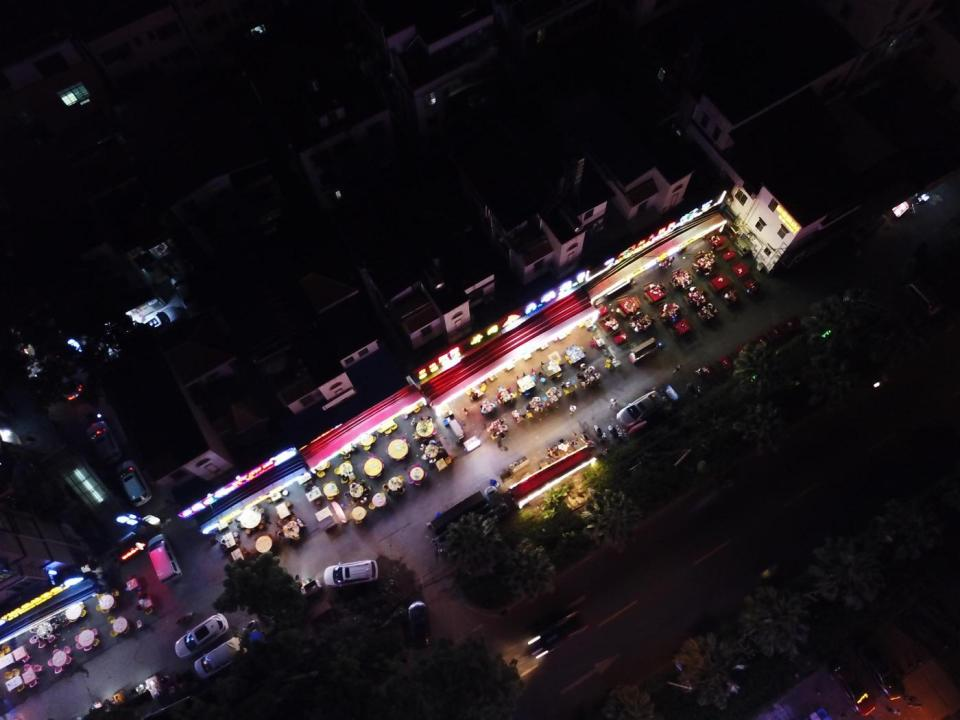car: (527, 610, 589, 658), (175, 612, 229, 660), (828, 662, 876, 716), (194, 636, 245, 680), (867, 649, 904, 701), (616, 390, 665, 429), (116, 458, 153, 506), (323, 559, 379, 588), (407, 600, 432, 652), (484, 484, 510, 518)
van: (146, 533, 183, 585)
